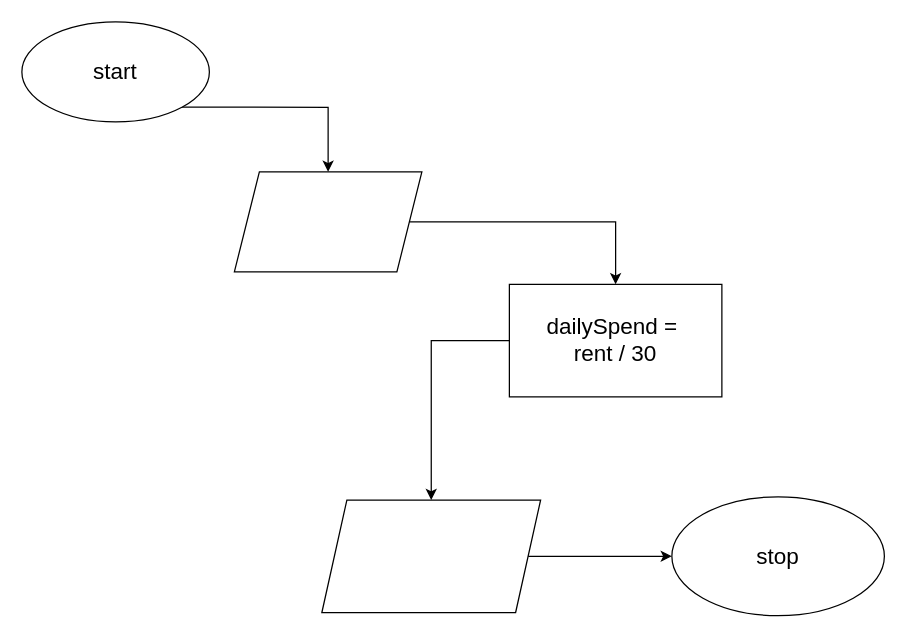
The diagram is 906 pixels wide and 638 high, and some of its shapes have lost their labels. Here are the shapes that lost their labels. From the top down, the centre of each, then its label:
At (327,221): "input rent".
At (431,555): "output dailySpend".
